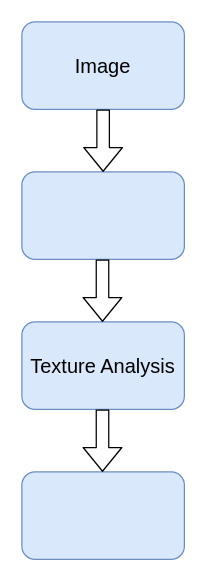
Some shapes in this 206 by 581 pixel diagram are drawn without their labels. The centre of each missing label's shape, as x and y in pixels:
Clothes Detection and Extraction: the point at 102,215
Clothes type Classifier: the point at 102,515
